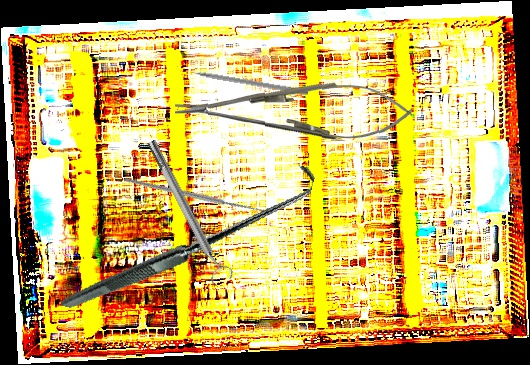Fixation Ring: (140, 135, 236, 288)
Hook Surgical: (60, 114, 317, 361), (122, 115, 280, 272)
Needle Holder: (174, 78, 413, 142)
Pusher: (177, 65, 309, 96)
